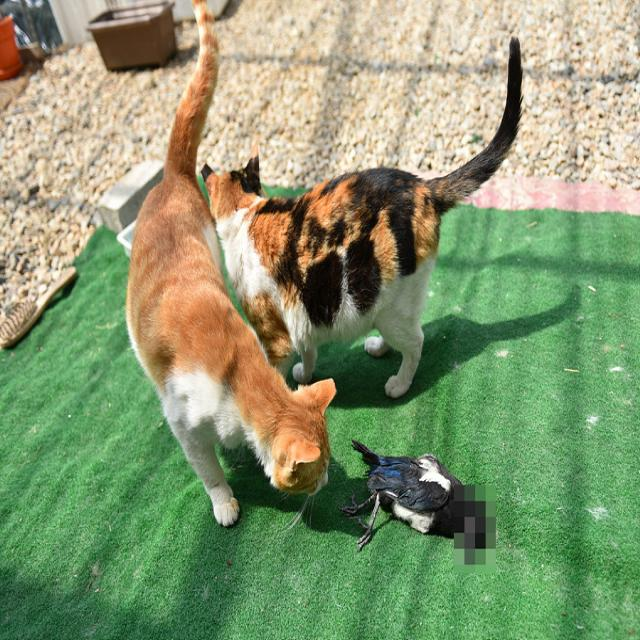cat: (198, 25, 528, 404), (120, 0, 341, 532)
